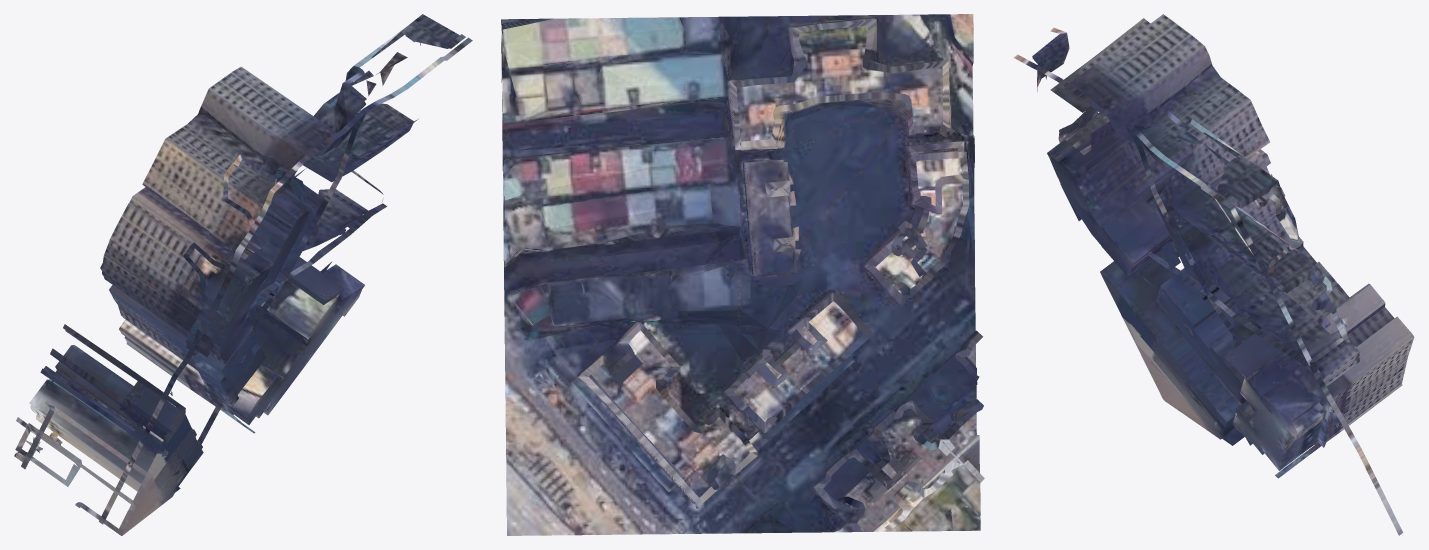
3 views of the same model, side by side, from view 1: azimuth 30°, elevation 25°; view 2: azimuth 150°, elevation 25°; view 3: azimuth 270°, elevation 25° (orthographic). The views are drawn at different scales.
Size of the model in its own units: 171 by 158 by 134.
1 material, 1 textured.
